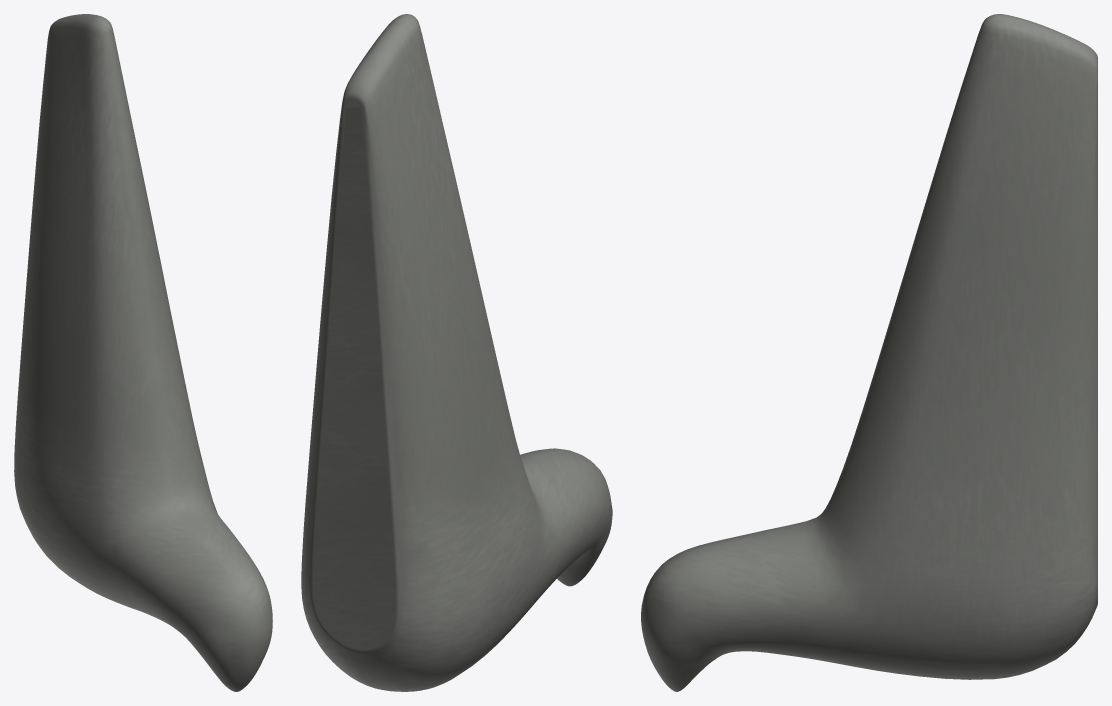
File: Vitra_LOiseau_mat(4).obj
3 renders of one model, left to right at view 1: azimuth 30°, elevation 25°; view 2: azimuth 150°, elevation 25°; view 3: azimuth 270°, elevation 25°, orthographic. The views are drawn at different scales.
Visible parts, largest first — view 1: Vitra_LOiseau_mat4; view 2: Vitra_LOiseau_mat4; view 3: Vitra_LOiseau_mat4.
Boxes of the visible parts, left/top/right/bottom form: Vitra_LOiseau_mat4: left=14, top=14, right=272, bottom=691; Vitra_LOiseau_mat4: left=301, top=14, right=612, bottom=691; Vitra_LOiseau_mat4: left=641, top=14, right=1097, bottom=691.
Size of the model in its own units: 6 by 24.5 by 15.
1 material, 1 textured.
